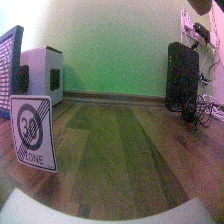dreisiger_zone_ende: (9, 95, 58, 173)
